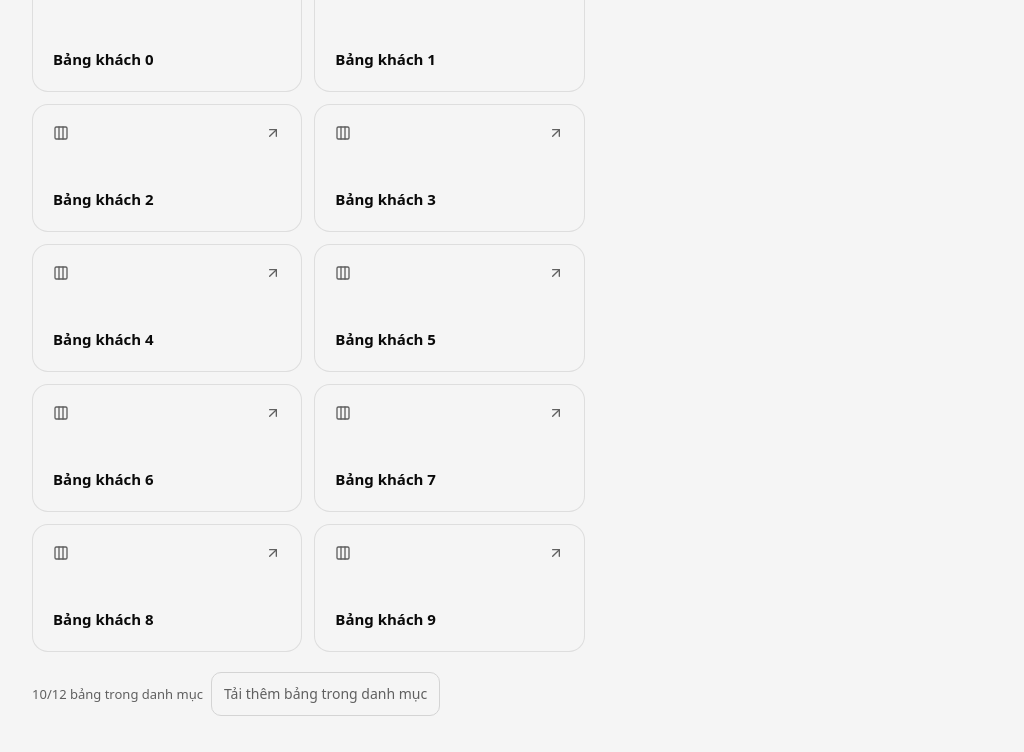
Test: reaches guest boards beyond the first global board page
(page scrolled)
Click the button "Tải thêm bảng trong danh mục" at (326, 694), box [211,672,440,716]
(page scrolled)
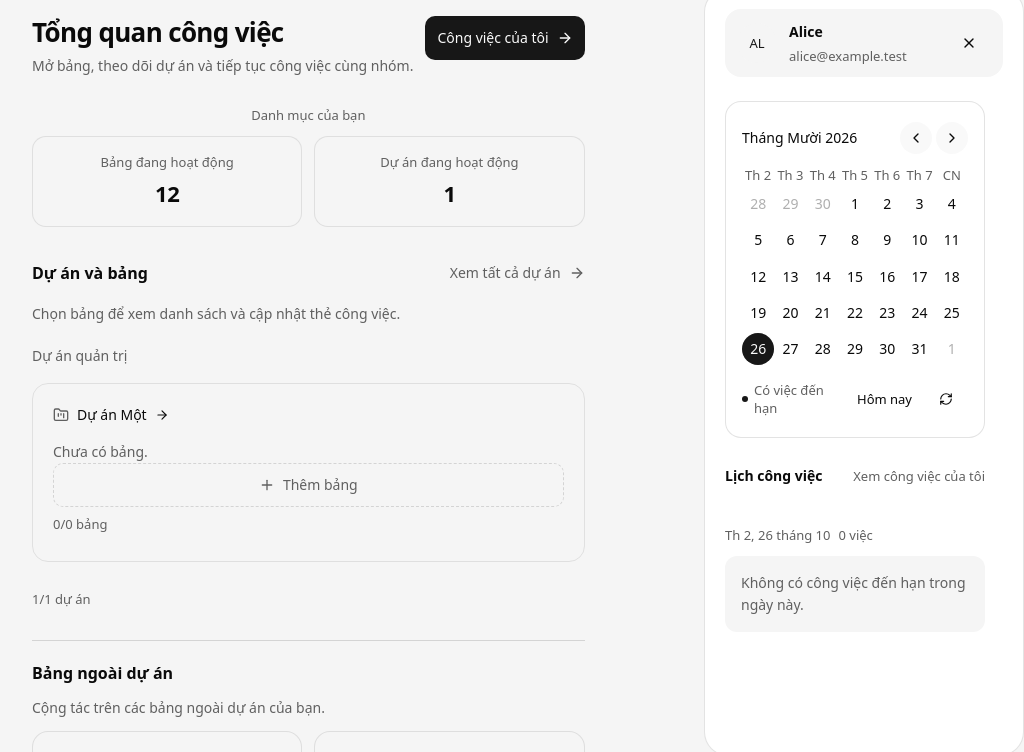
Expected: the text named "Số bảng đang hoạt động" reads "12", [155,178,179,208]
